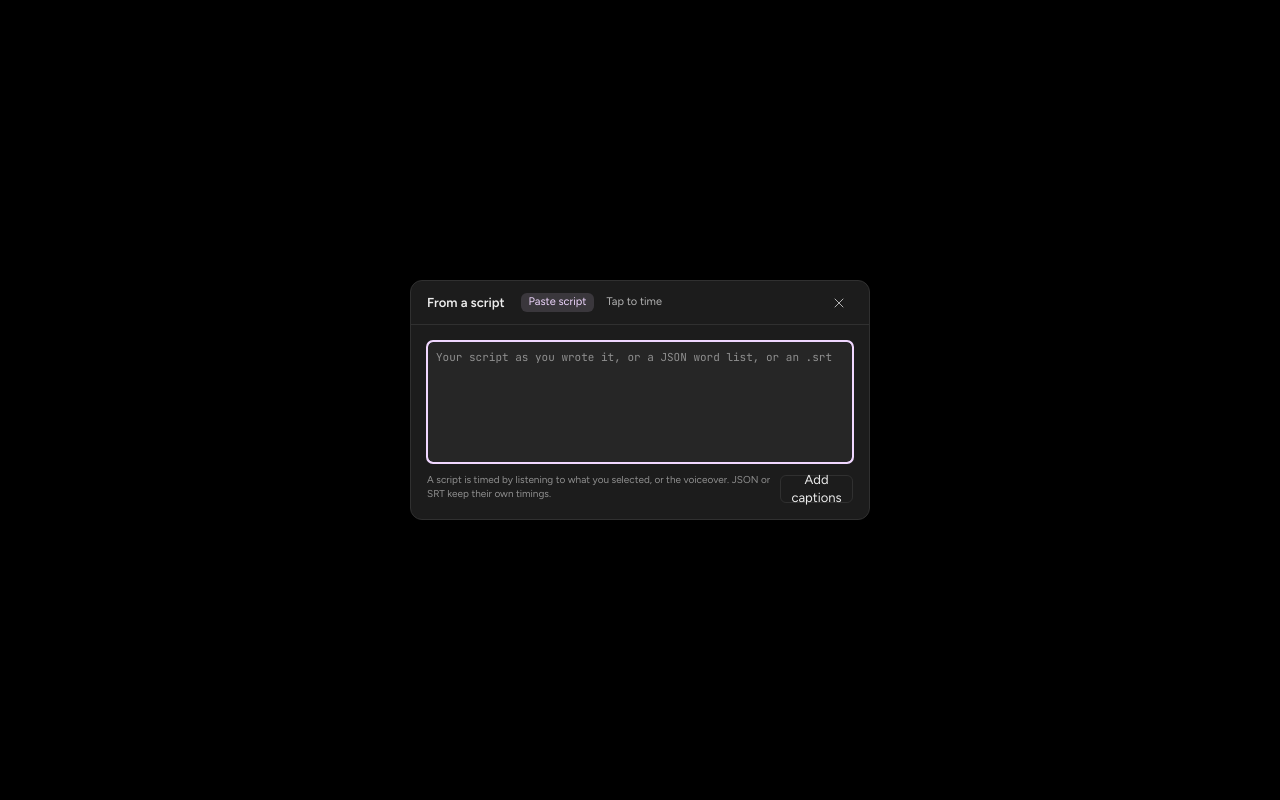
Scenario: Paste a script › with nothing to listen to, says so and keeps the window open
Type "The Bun Bun wins" into the text box with test id "captions-text".
click(640, 402); type("The Bun Bun wins")  # box x1=427 y1=341 x2=853 y2=463
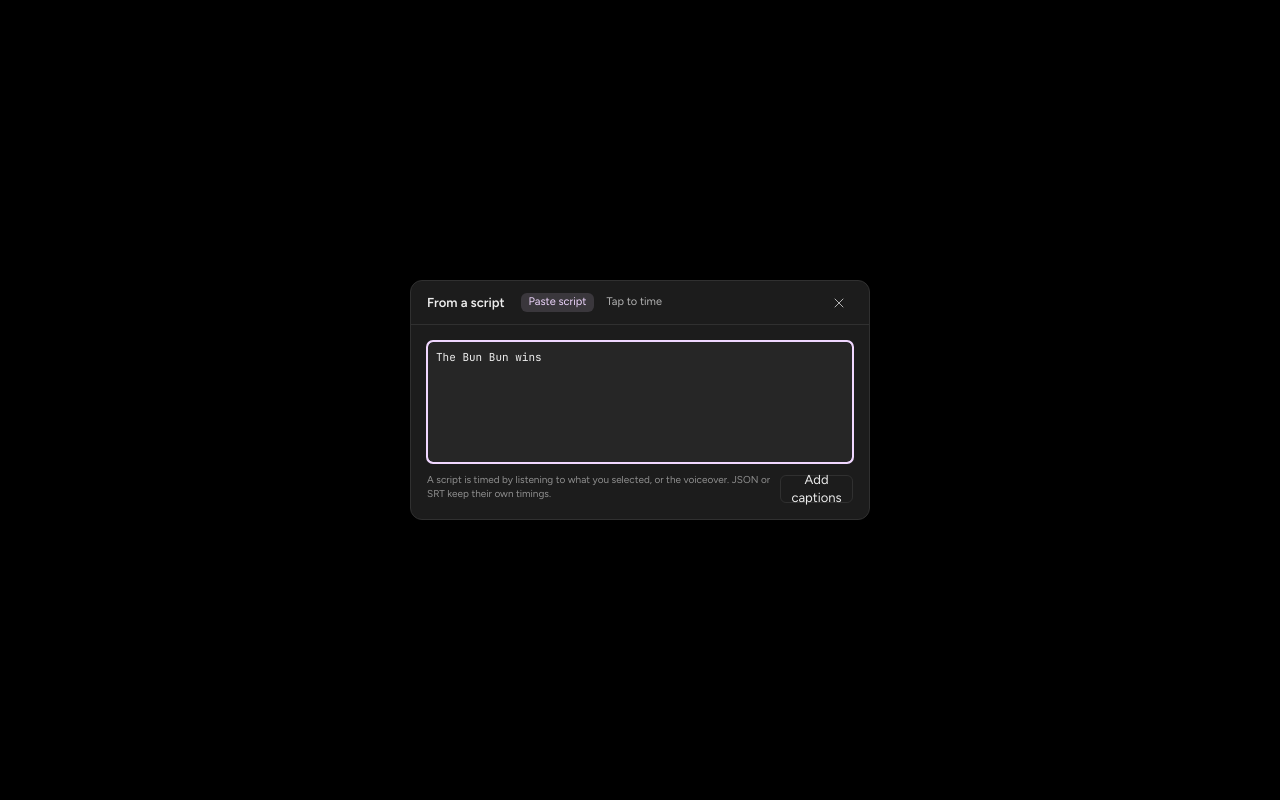
Click the button with test id "captions-apply".
click(816, 489)  # box x1=780 y1=475 x2=853 y2=503
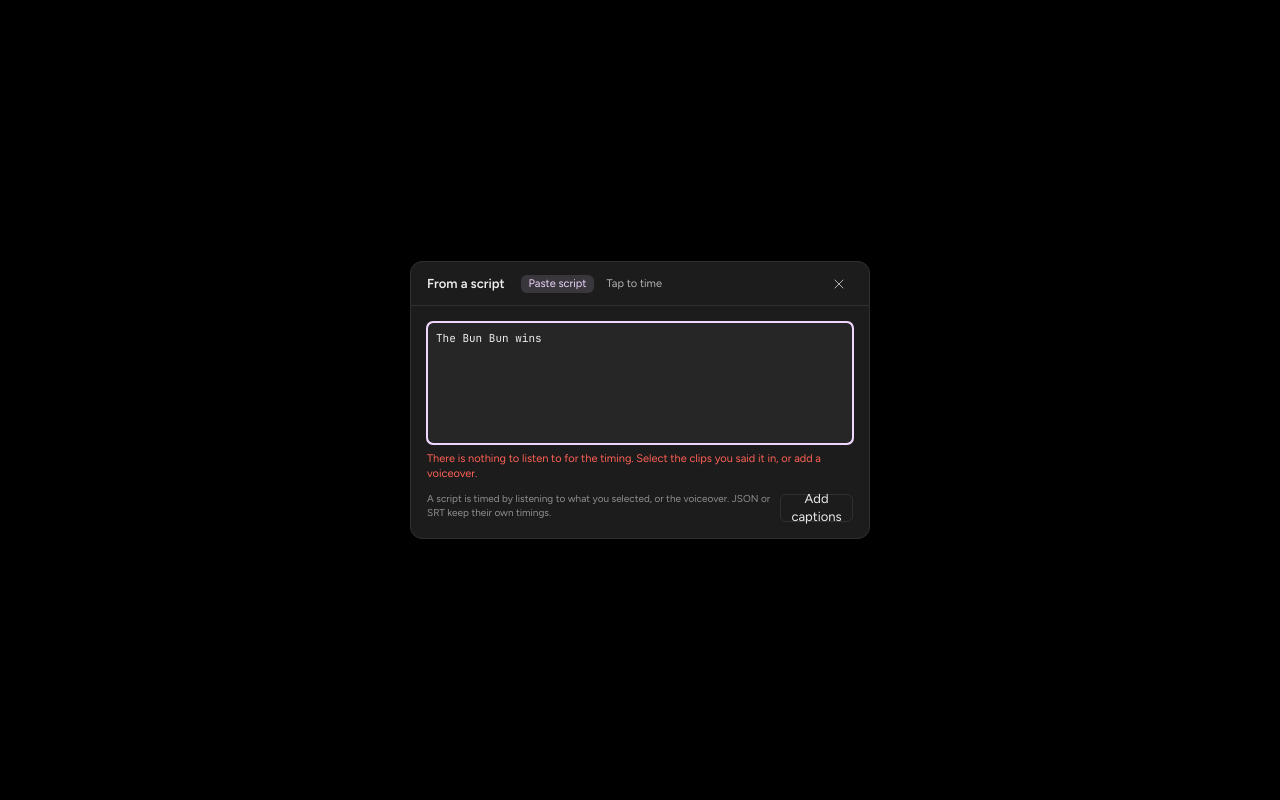
Result: the text "nothing to listen to" is shown at x1=427 y1=452 x2=821 y2=480
